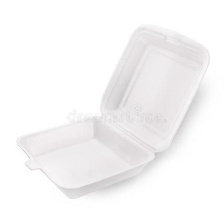foam_box: (12, 18, 214, 204)
